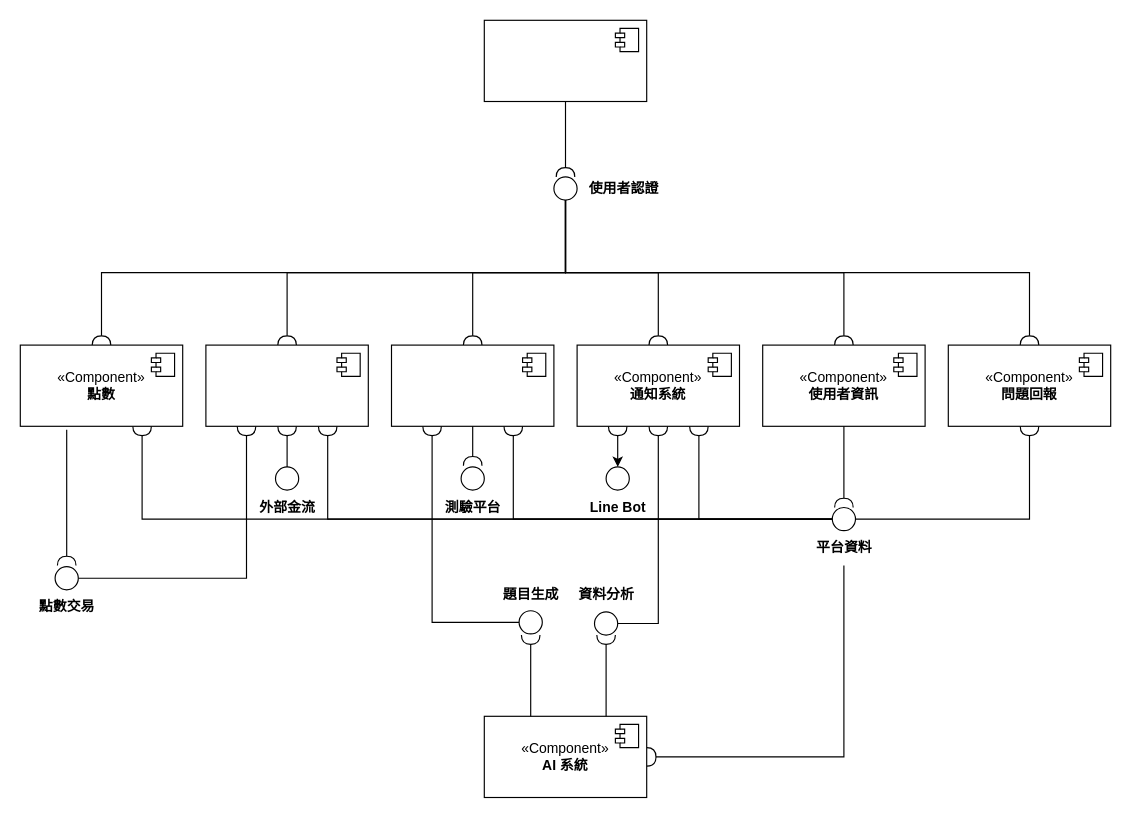
This 1131x818 diagram has some shape labels left out. The shapes that lost their labels are listed below. From the top down, each one's centre as x and y in pixels, then its label:
(x=565, y=60): «Component» 登入系統
(x=286, y=385): «Component» 商店
(x=472, y=385): «Component» 測驗
